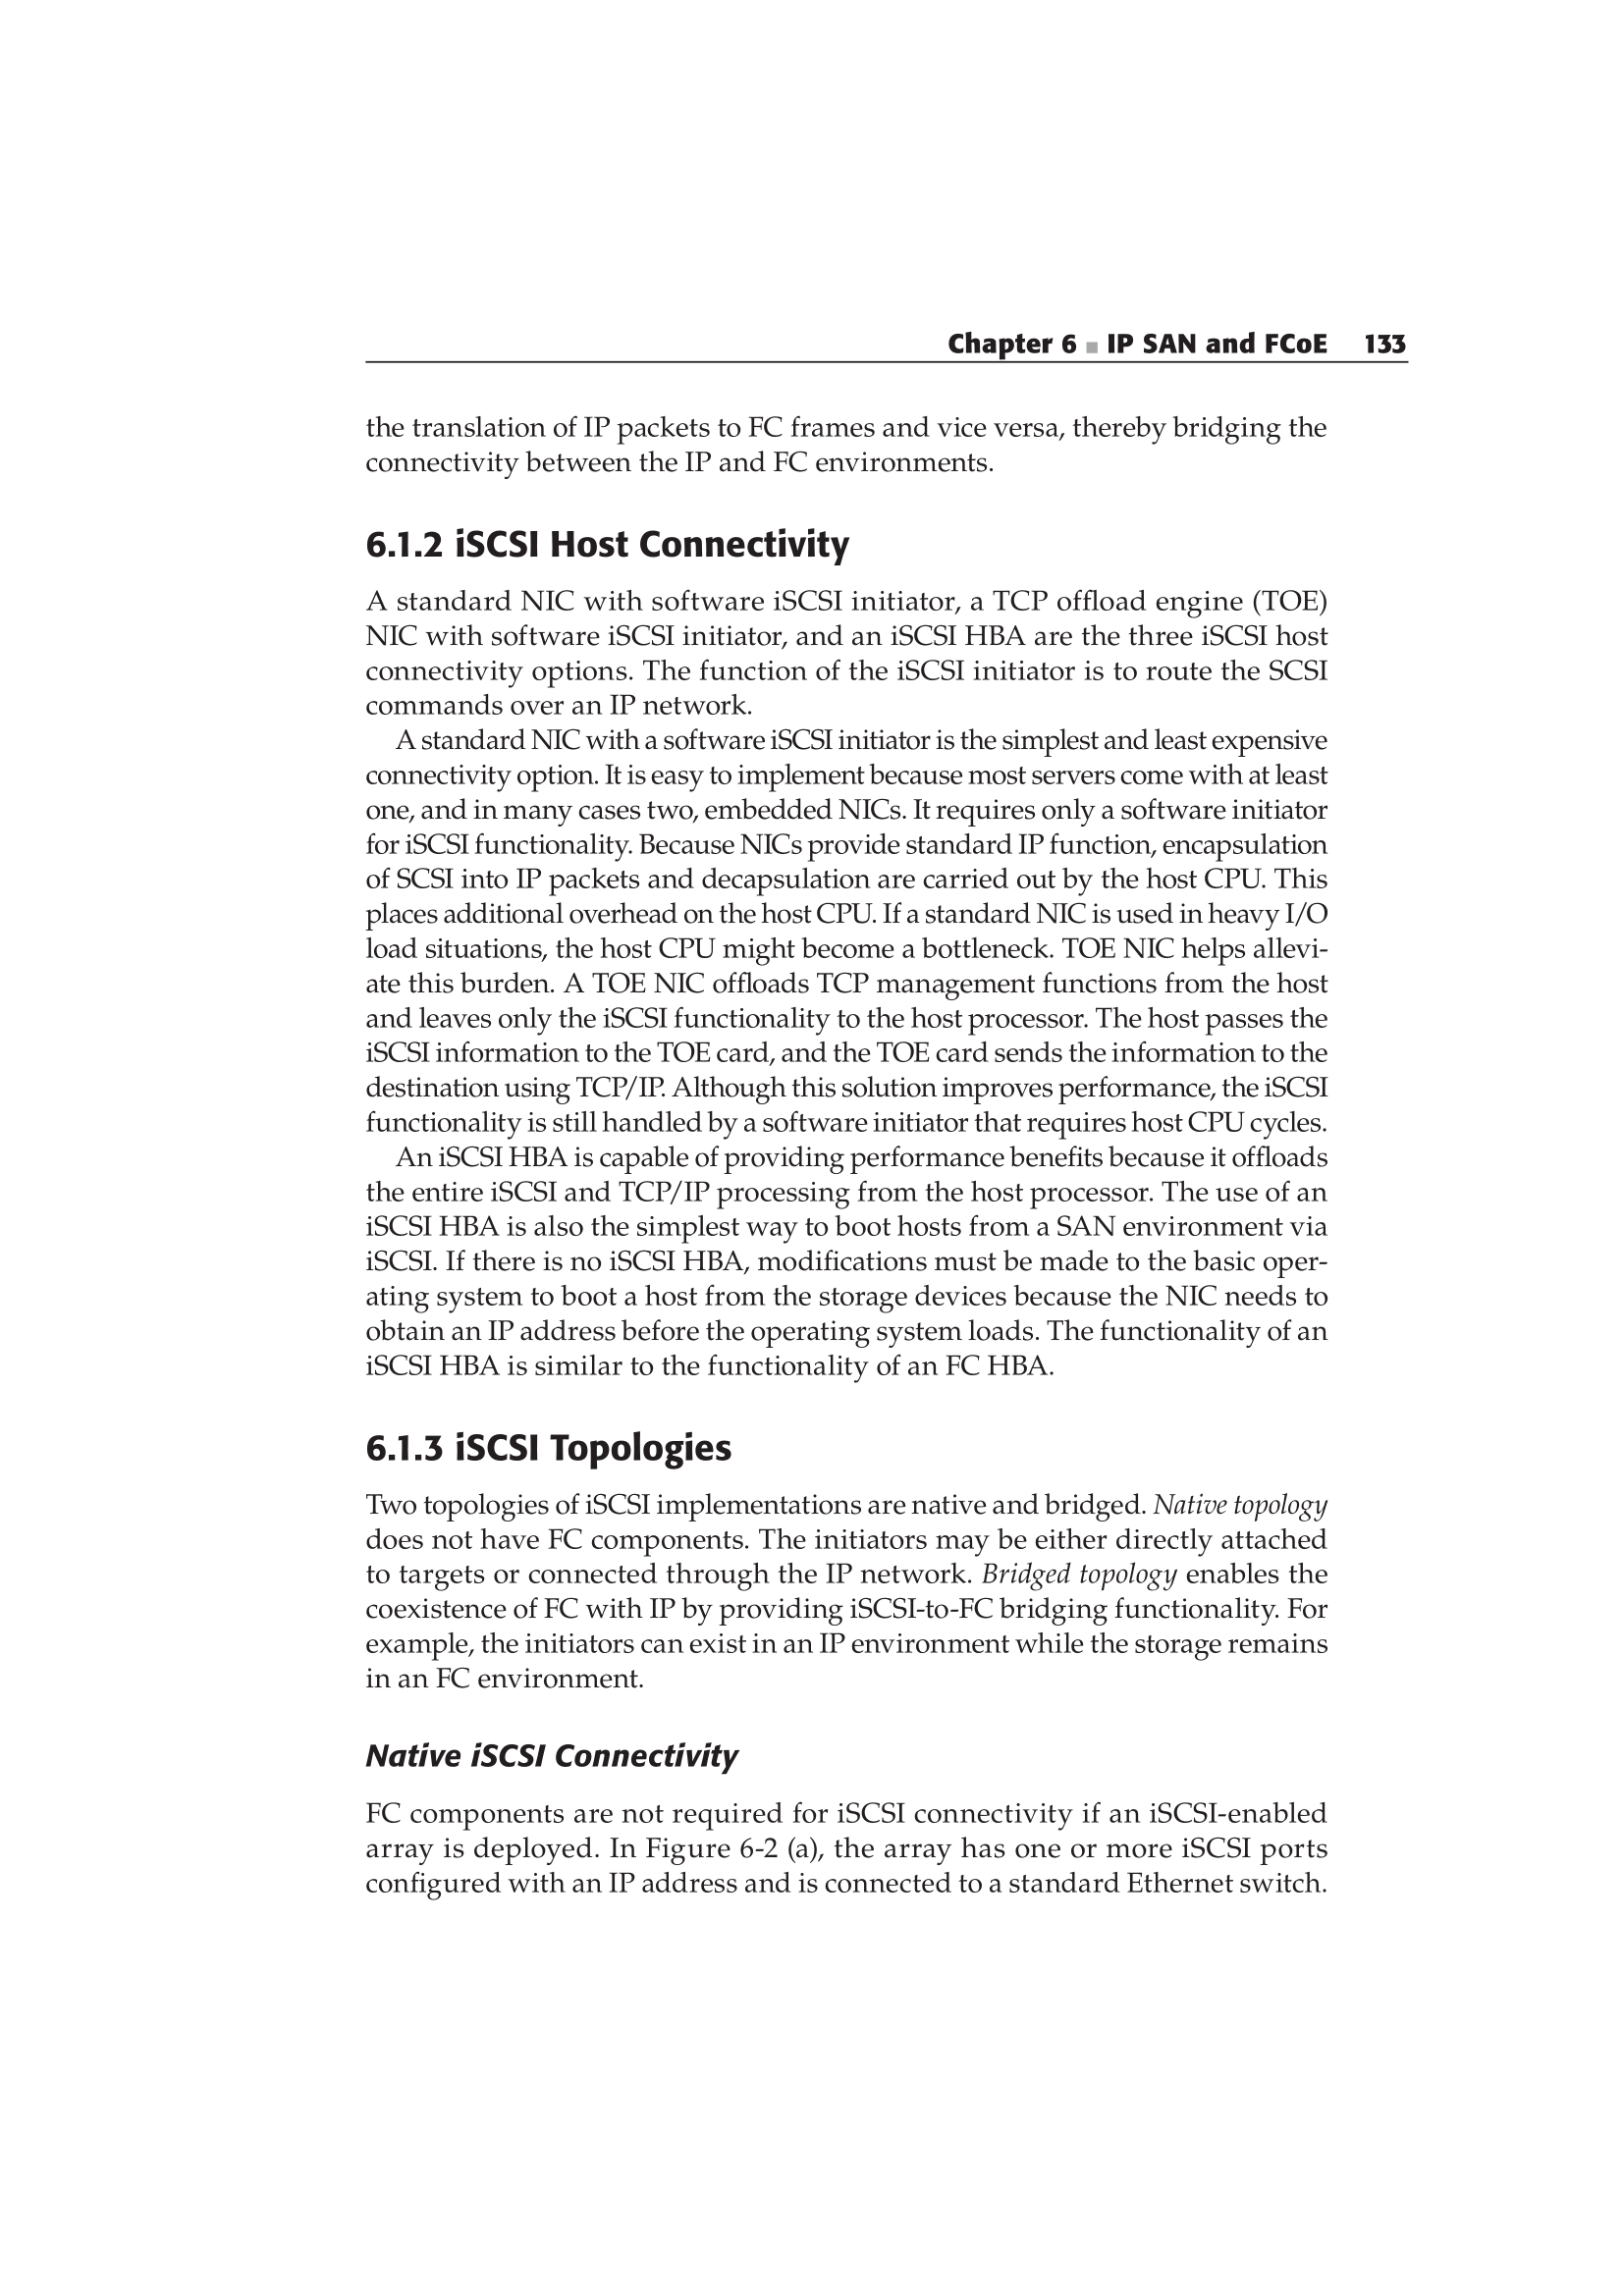Paragraph: (357, 730, 1333, 1141), (357, 1146, 1338, 1392), (357, 1474, 1347, 1708), (357, 585, 1338, 721), (351, 1799, 1361, 1917), (357, 405, 1333, 488), (357, 511, 859, 565), (931, 305, 1430, 356), (351, 1720, 748, 1776), (357, 1420, 748, 1469)
